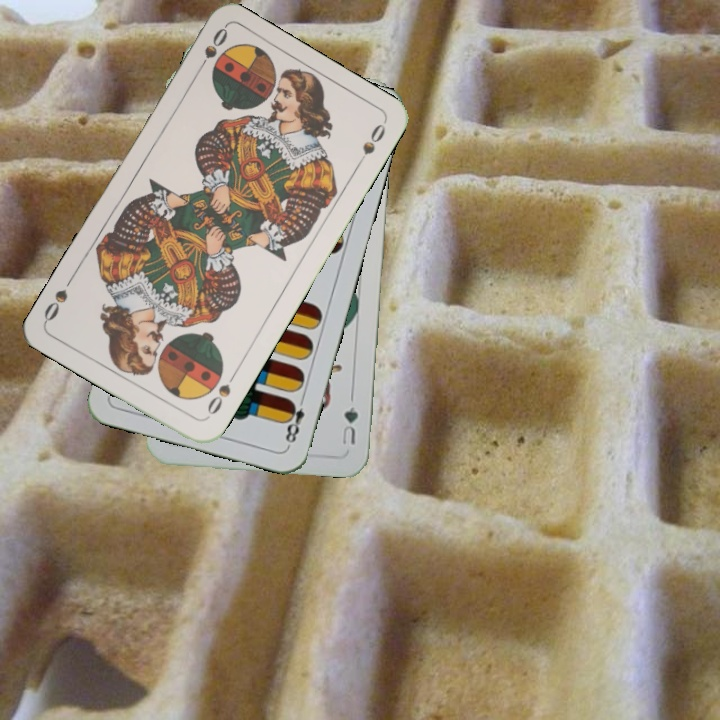E8: (281, 391, 308, 449)
GU: (338, 402, 361, 447)
SO: (192, 24, 231, 78), (203, 368, 239, 418)
